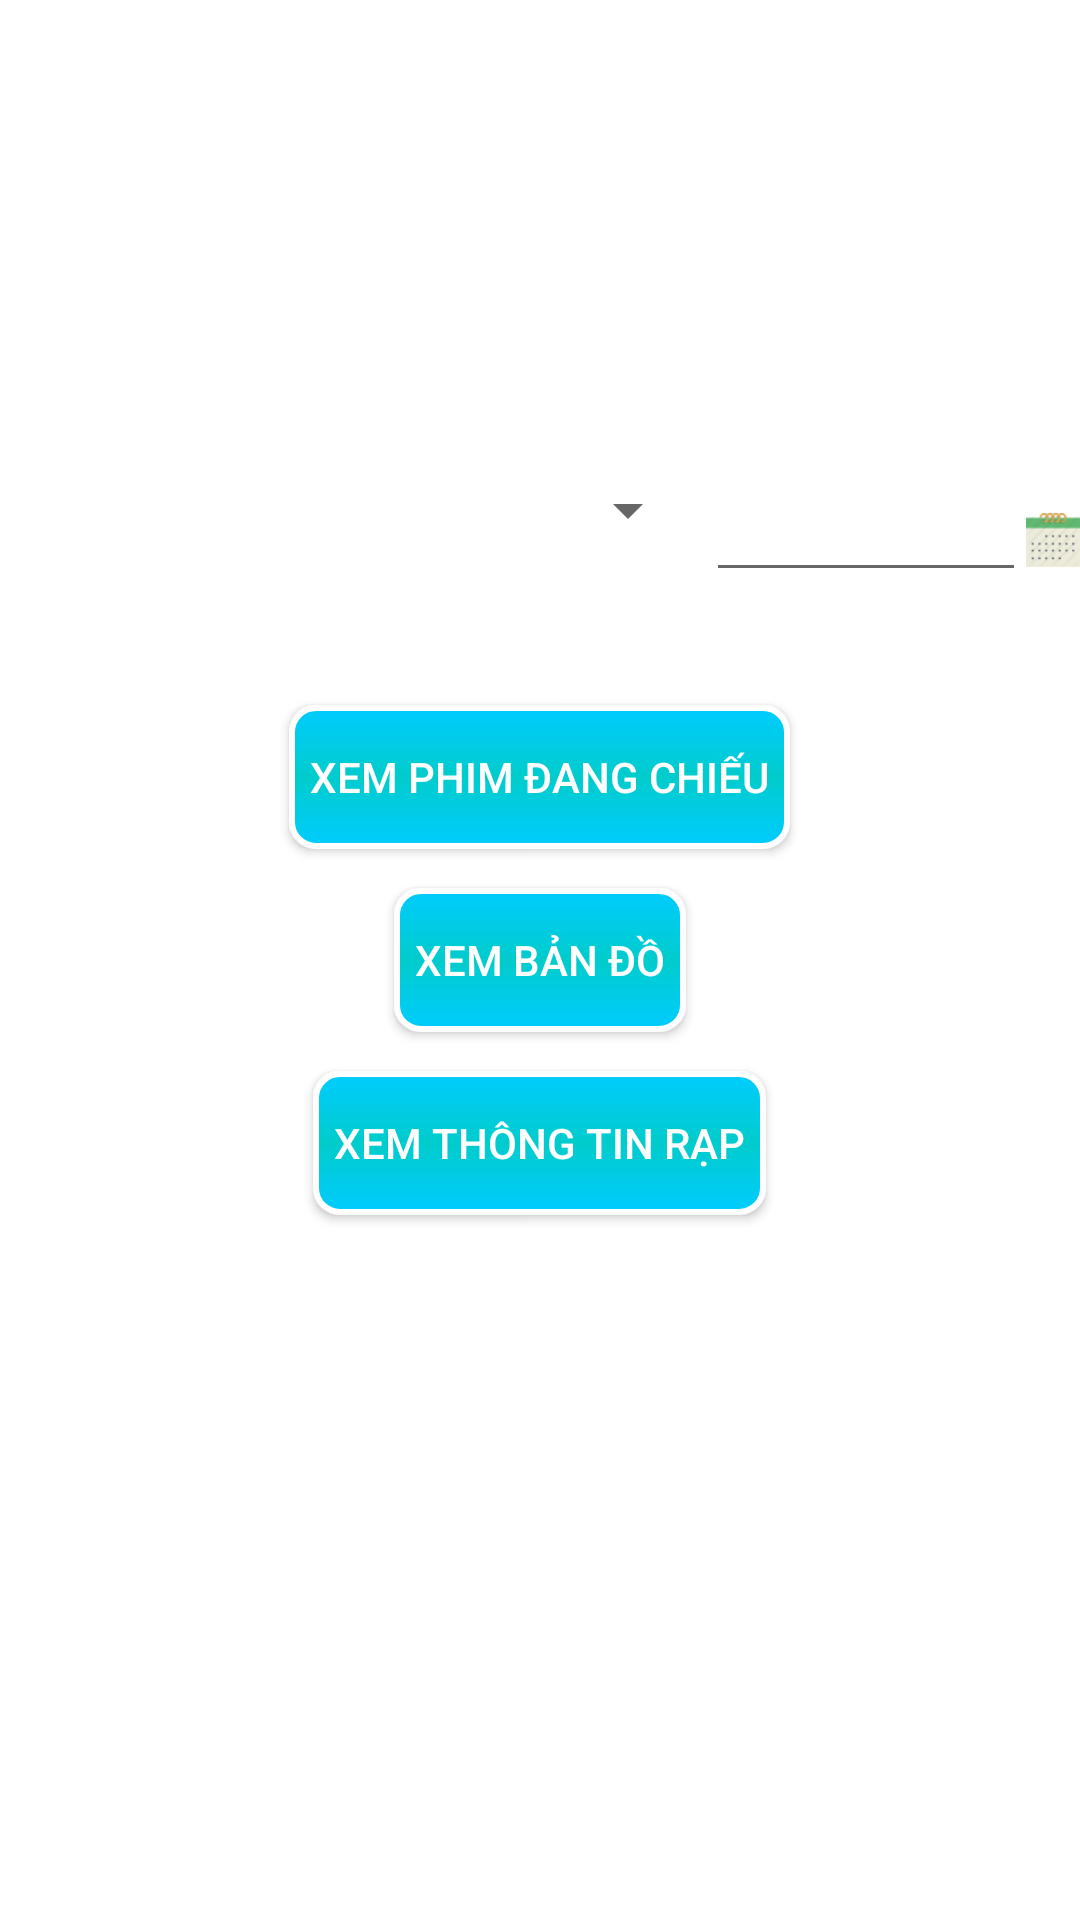

Icon bounding boxes for this 1080*1920 phone screenshot, format (x1, y1, x2, y2):
calender: (1026, 513, 1080, 567)
